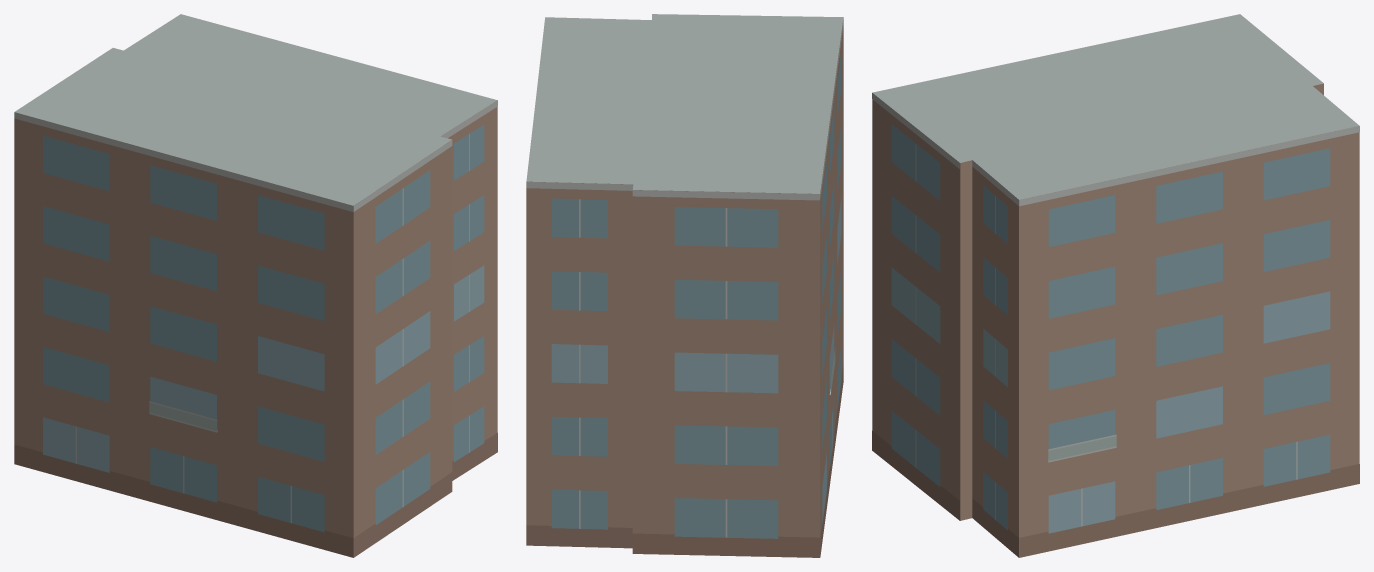
File: survey-upis-32741310.glb
3 views of the same model, side by side, from view 1: azimuth 30°, elevation 25°; view 2: azimuth 150°, elevation 25°; view 3: azimuth 270°, elevation 25° (orthographic). The views are drawn at different scales.
Parts seen in each view (by area): view 1: survey-upis-32741310.tmp; view 2: survey-upis-32741310.tmp; view 3: survey-upis-32741310.tmp.
Boxes of the visible parts, x1,y1,x2,y2 form: survey-upis-32741310.tmp: [14, 14, 497, 557]; survey-upis-32741310.tmp: [526, 14, 843, 557]; survey-upis-32741310.tmp: [872, 14, 1359, 557].
Bounding box in the file's own units: 15.18 × 13.62 × 16.82.
